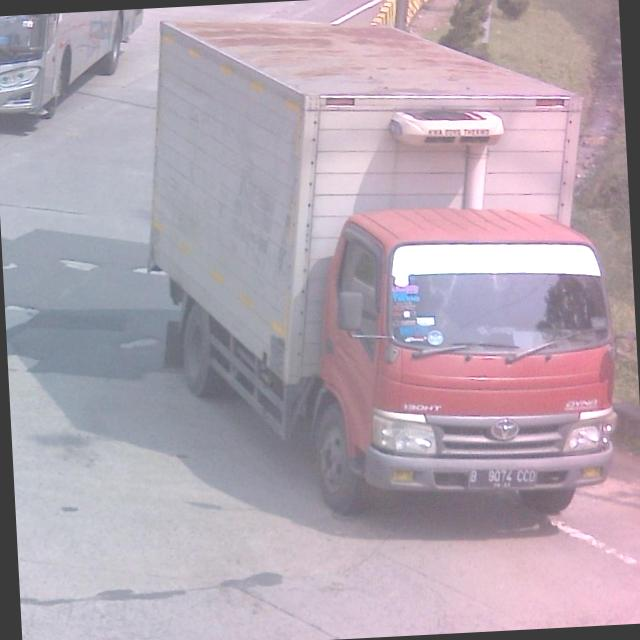plate: (468, 462, 540, 494)
